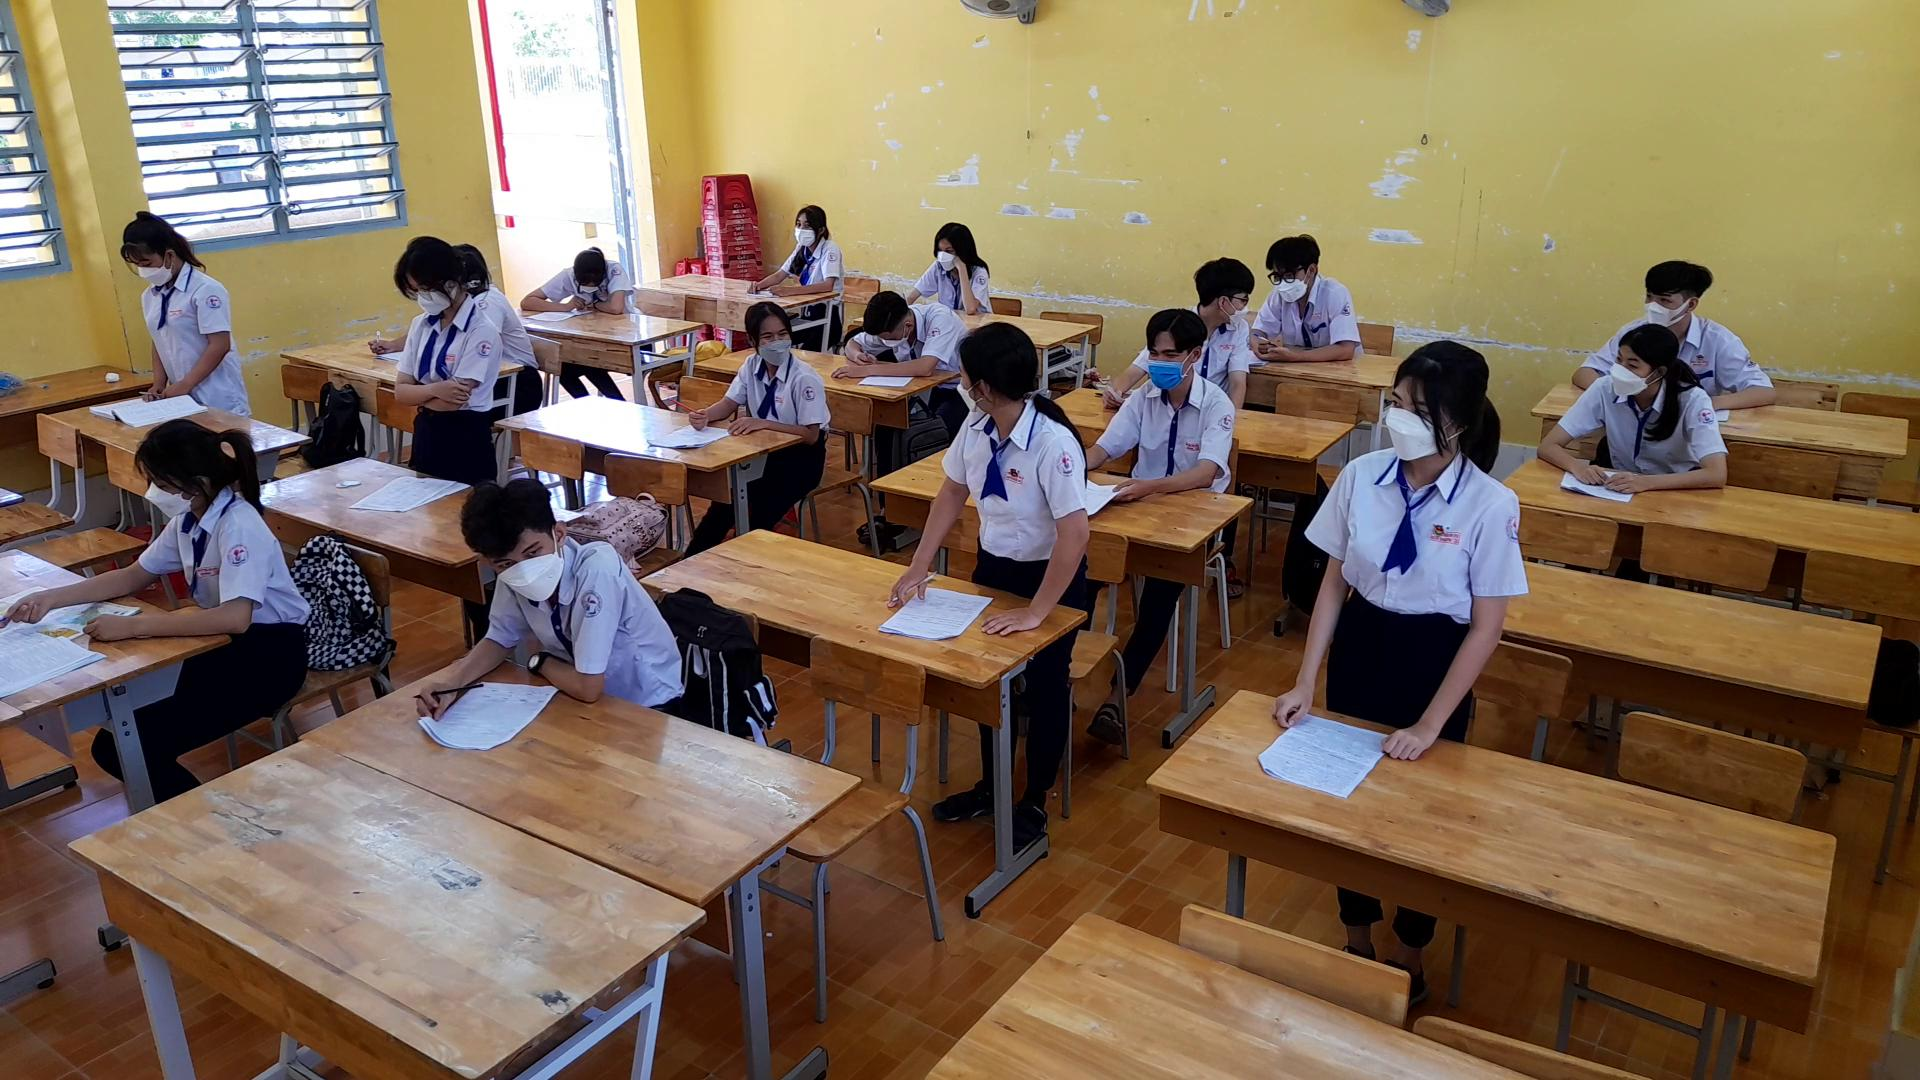Look Around: (1184, 244, 1254, 324)
Normal: (398, 468, 694, 728), (0, 413, 314, 641), (1532, 314, 1734, 497), (1087, 301, 1240, 506), (676, 287, 829, 439), (732, 185, 855, 299)
Stand Up: (1259, 331, 1527, 766), (880, 314, 1097, 646), (384, 224, 508, 480), (111, 204, 251, 415), (1244, 214, 1364, 367)
Wave: (947, 251, 992, 320)
